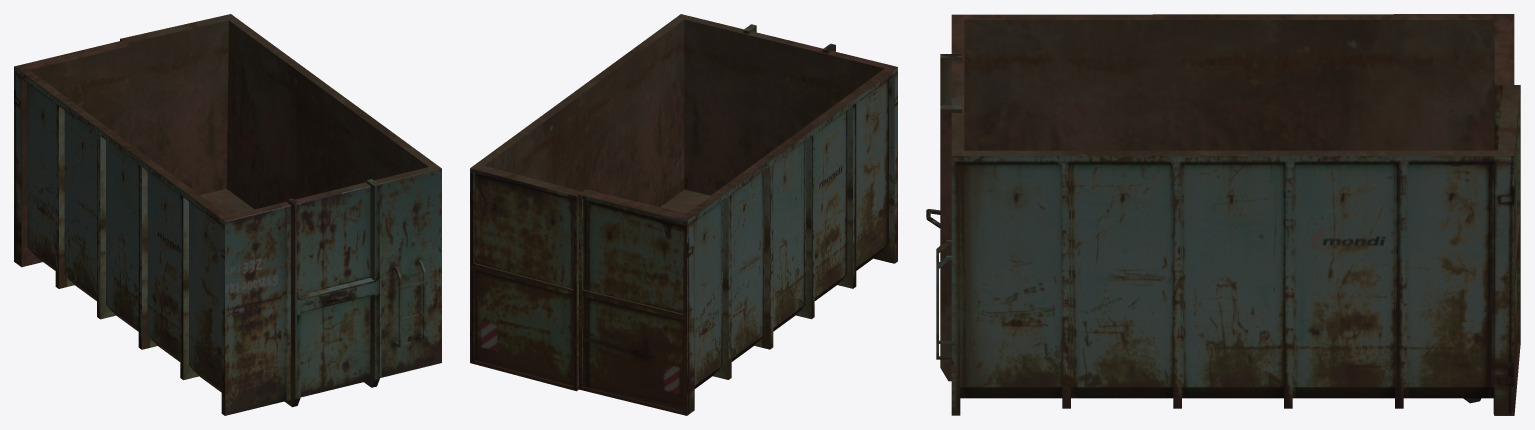
3 renders of one model, left to right at view 1: azimuth 30°, elevation 25°; view 2: azimuth 150°, elevation 25°; view 3: azimuth 270°, elevation 25°, orthographic. The views are drawn at different scales.
Parts seen in each view (by area): view 1: Cube.019; view 2: Cube.019; view 3: Cube.019.
Boxes of the visible parts, x1=… form: Cube.019: x1=14, y1=14, x2=441, y2=415; Cube.019: x1=470, y1=14, x2=897, y2=415; Cube.019: x1=926, y1=14, x2=1520, y2=415.
Size of the model in its own units: 2.64 by 2.39 by 4.69.
